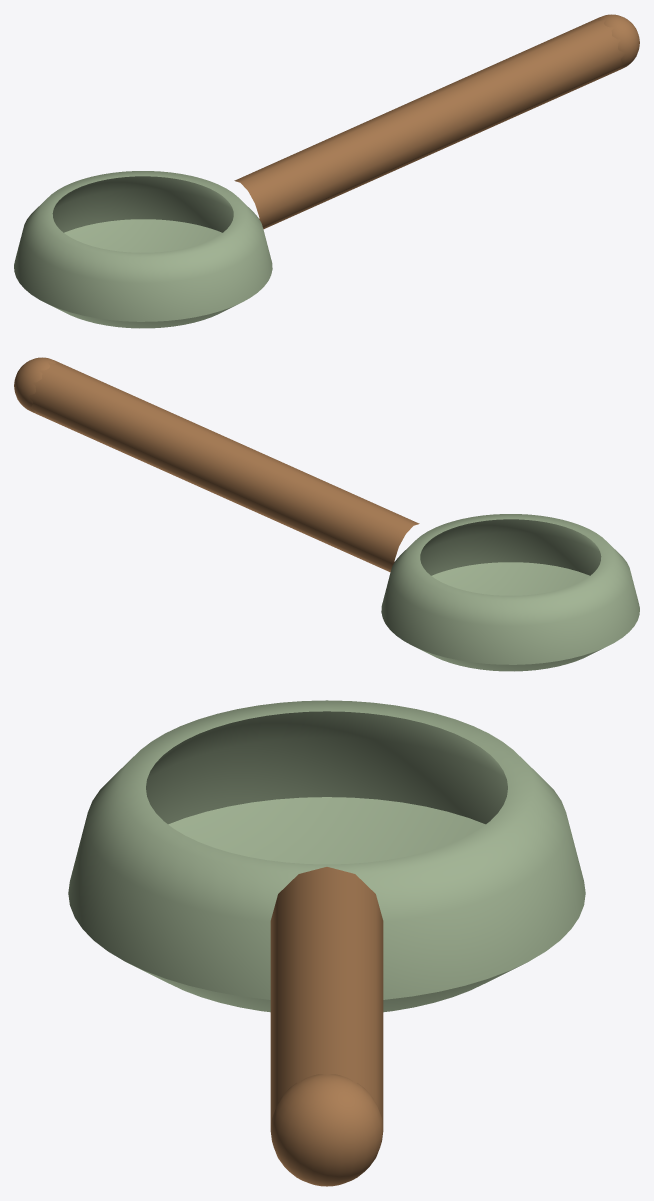
File: desert-caravanserai-and-bazaar-spice-scoop-2f00aa09__30475.glb
The picture shows the model from 3 angles, top to bottom: view 1: azimuth 30°, elevation 25°; view 2: azimuth 150°, elevation 25°; view 3: azimuth 270°, elevation 25°; orthographic projection. The views are drawn at different scales.
Parts seen in each view (by area): view 1: spice-scoop; view 2: spice-scoop; view 3: spice-scoop.
Part boxes in pixels (x1,y1,x2,y2): spice-scoop: [14, 14, 639, 328]; spice-scoop: [14, 357, 639, 671]; spice-scoop: [68, 700, 585, 1186].
Size of the model in its own units: 0.297 by 0.077 by 0.11.
